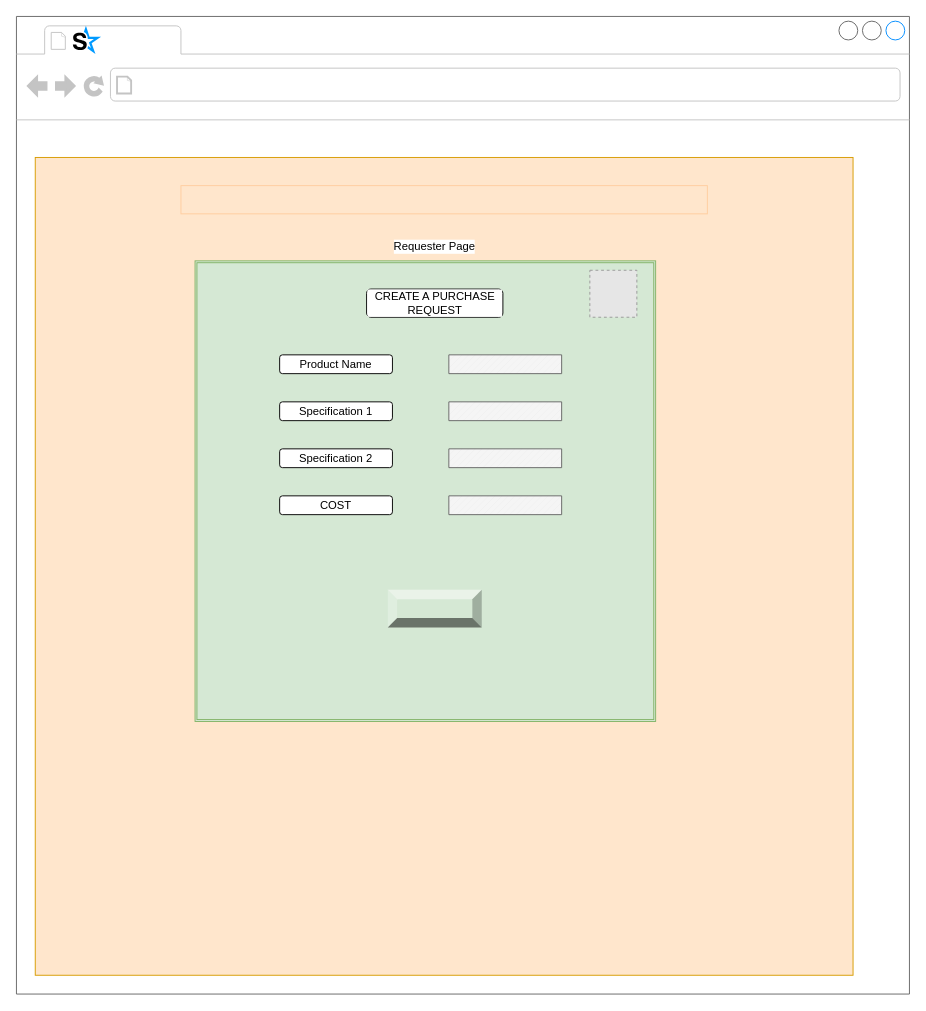
Image size: 926x1011. Some labels were removed from this diagram. Grey dashed boxes stand in for pictures. The shapes that lost their labels are listed below. From the top down, each one's centre as x and y in pixels, then its label:
At (256,84): "https://www.shipping.com".
At (443,199): "SHIPPING.COM".
At (434,608): "submit request".
